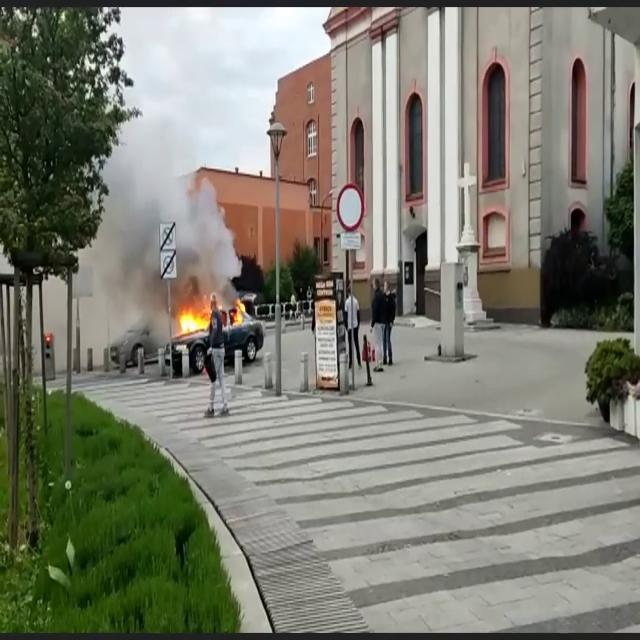Fire: (172, 290, 249, 337)
Smoke: (80, 43, 242, 312)
